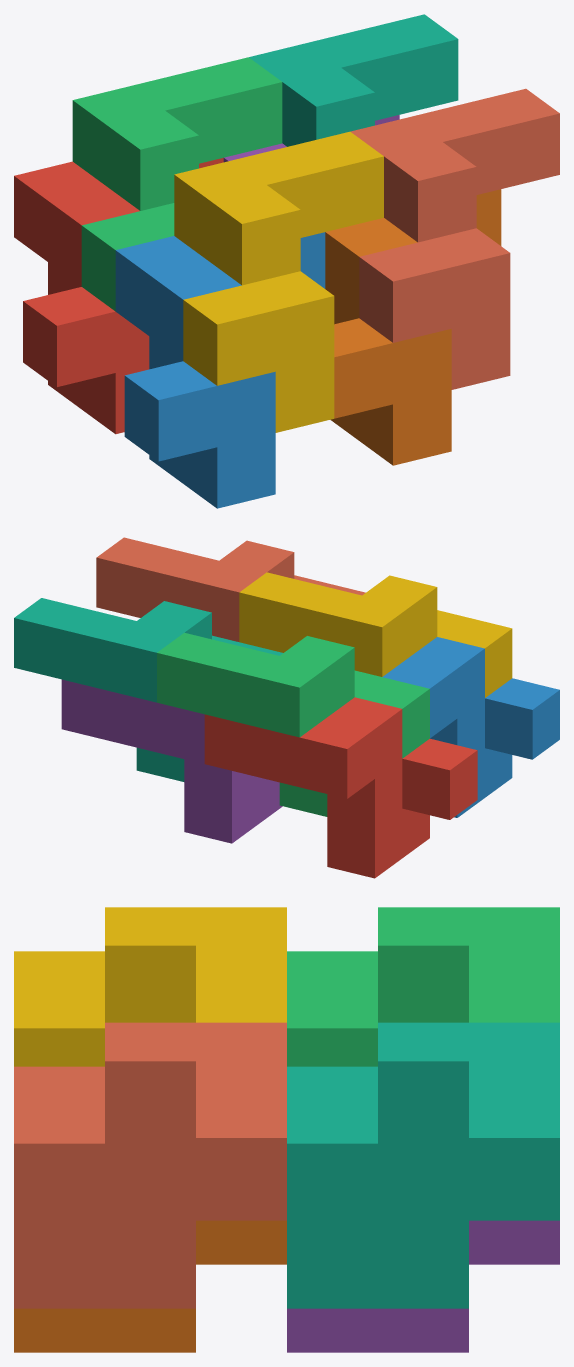
The model's file is tiling.obj.
3 views of the same model, one above another, from view 1: azimuth 30°, elevation 25°; view 2: azimuth 150°, elevation 25°; view 3: azimuth 270°, elevation 25° (orthographic). The views are drawn at different scales.
Parts seen in each view (by area): view 1: copy_1_domain_4, copy_1_domain_8, copy_1_domain_2, copy_1_domain_3, copy_1_domain_1, copy_1_domain_6, copy_1_domain_7; view 2: copy_1_domain_1, copy_1_domain_3, copy_1_domain_4, copy_1_domain_7, copy_1_domain_2, copy_1_domain_5, copy_1_domain_8; view 3: copy_1_domain_7, copy_1_domain_8, copy_1_domain_3, copy_1_domain_4, copy_1_domain_5, copy_1_domain_6.
Boxes of the visible parts, x1=… form: copy_1_domain_4: x1=174, y1=131, x2=383, y2=432; copy_1_domain_8: x1=350, y1=88, x2=559, y2=389; copy_1_domain_2: x1=115, y1=232, x2=325, y2=508; copy_1_domain_3: x1=72, y1=57, x2=282, y2=311; copy_1_domain_1: x1=14, y1=158, x2=223, y2=434; copy_1_domain_6: x1=325, y1=189, x2=501, y2=465; copy_1_domain_7: x1=249, y1=14, x2=458, y2=146; copy_1_domain_1: x1=204, y1=697, x2=477, y2=878; copy_1_domain_3: x1=157, y1=632, x2=429, y2=816; copy_1_domain_4: x1=239, y1=572, x2=512, y2=697; copy_1_domain_7: x1=14, y1=598, x2=282, y2=781; copy_1_domain_2: x1=382, y1=637, x2=559, y2=817; copy_1_domain_5: x1=61, y1=679, x2=282, y2=843; copy_1_domain_8: x1=96, y1=537, x2=365, y2=641; copy_1_domain_7: x1=287, y1=1022, x2=559, y2=1308; copy_1_domain_8: x1=14, y1=1022, x2=286, y2=1308; copy_1_domain_3: x1=287, y1=907, x2=559, y2=1066; copy_1_domain_4: x1=14, y1=907, x2=286, y2=1066; copy_1_domain_5: x1=287, y1=1220, x2=559, y2=1352; copy_1_domain_6: x1=14, y1=1220, x2=286, y2=1352.
Bounding box in the file's own units: 8 × 4 × 6.
